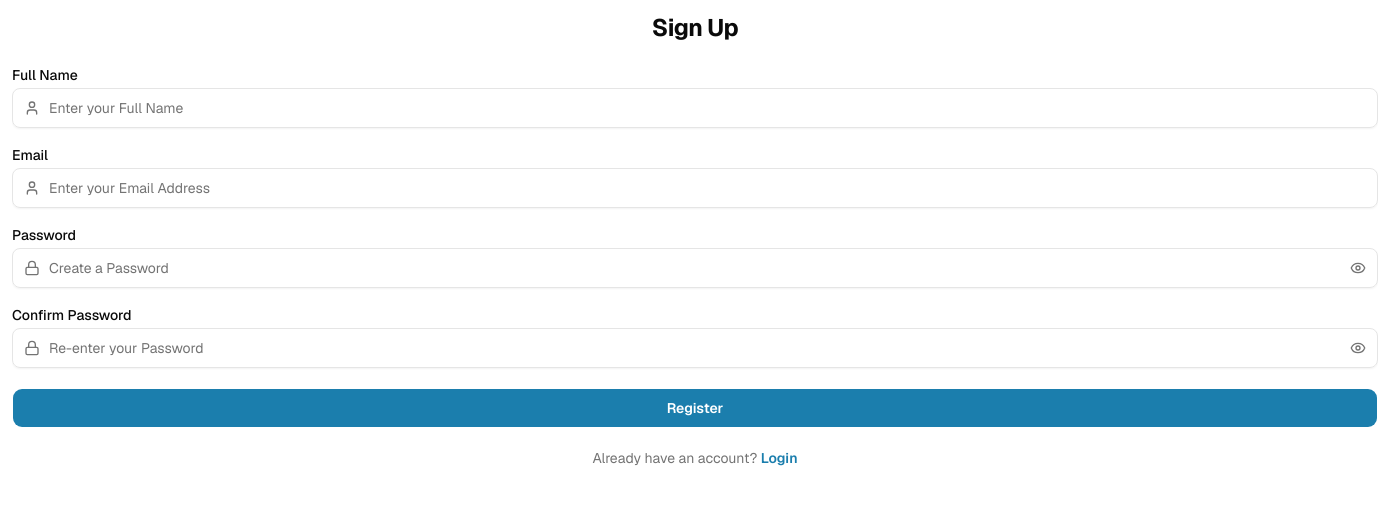
Test: RegisterForm › should show password length error
Type "Test" into the field labelled "Full Name". click: [695, 108]
box: [12,88,1378,128]
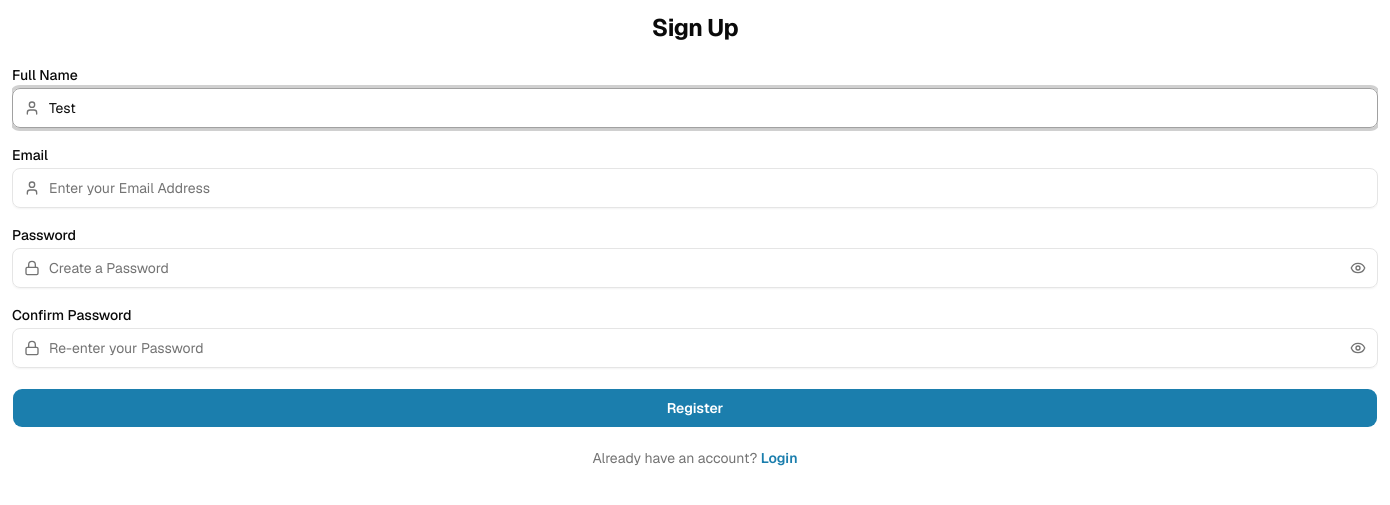
Type "a@b.com" into the field labelled "Email". click: [695, 188]
box: [12,168,1378,208]
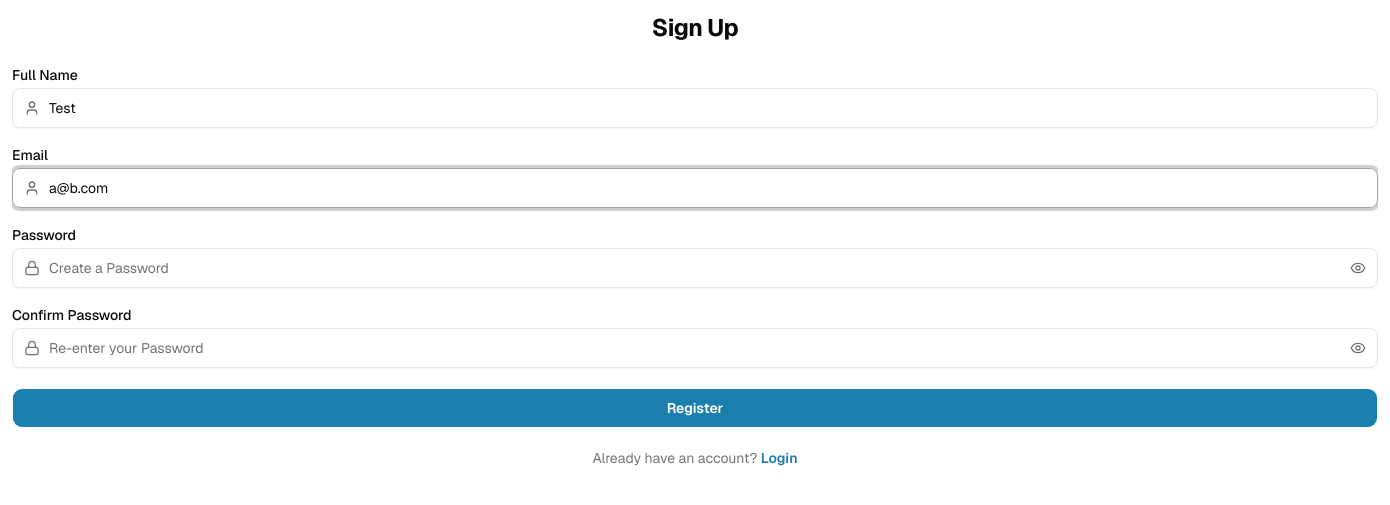
Type "short" into the password field labelled "Password". click: [695, 268]
box: [12,248,1378,288]
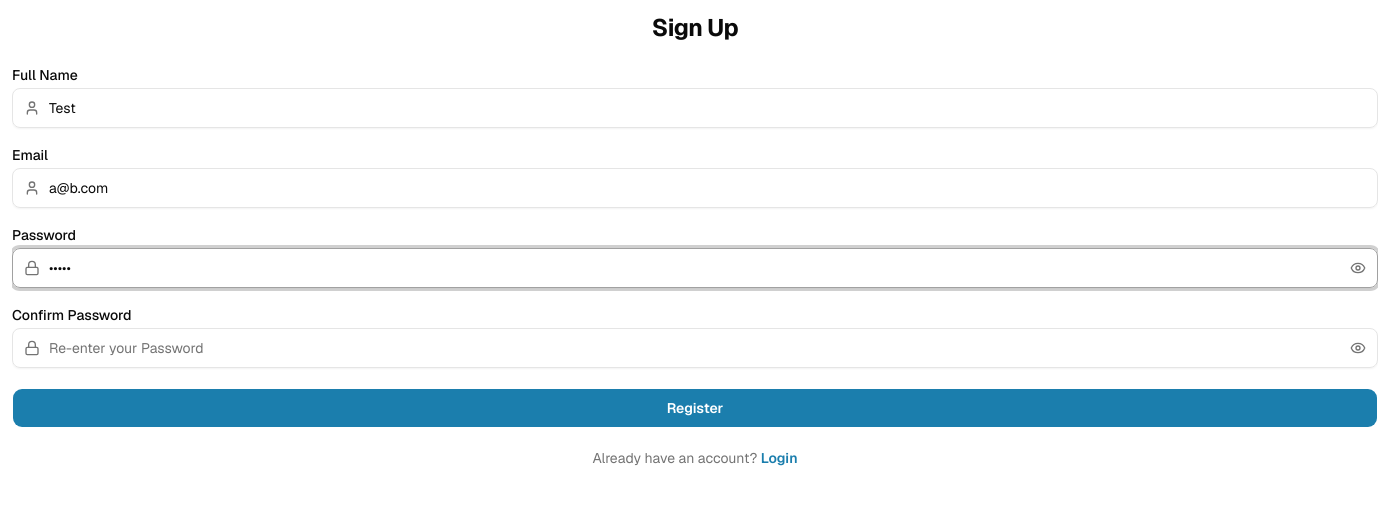
Type "short" into the password field labelled "Confirm Password". click: [695, 348]
box: [12,328,1378,368]
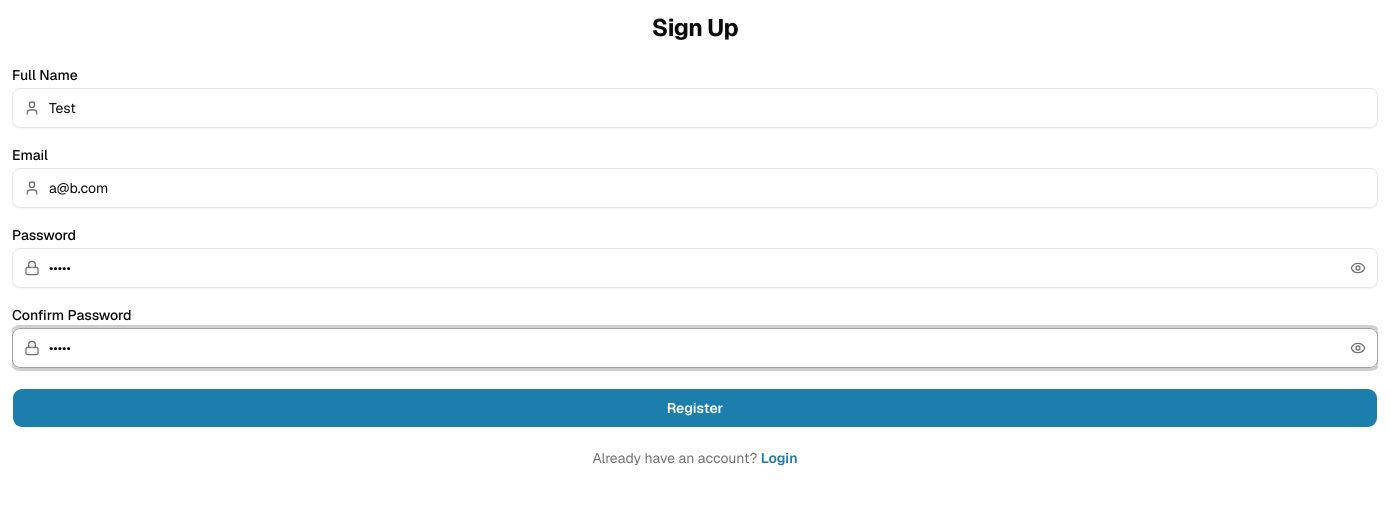
Click the button "Register". click: [695, 408]
box: [12,388,1378,428]
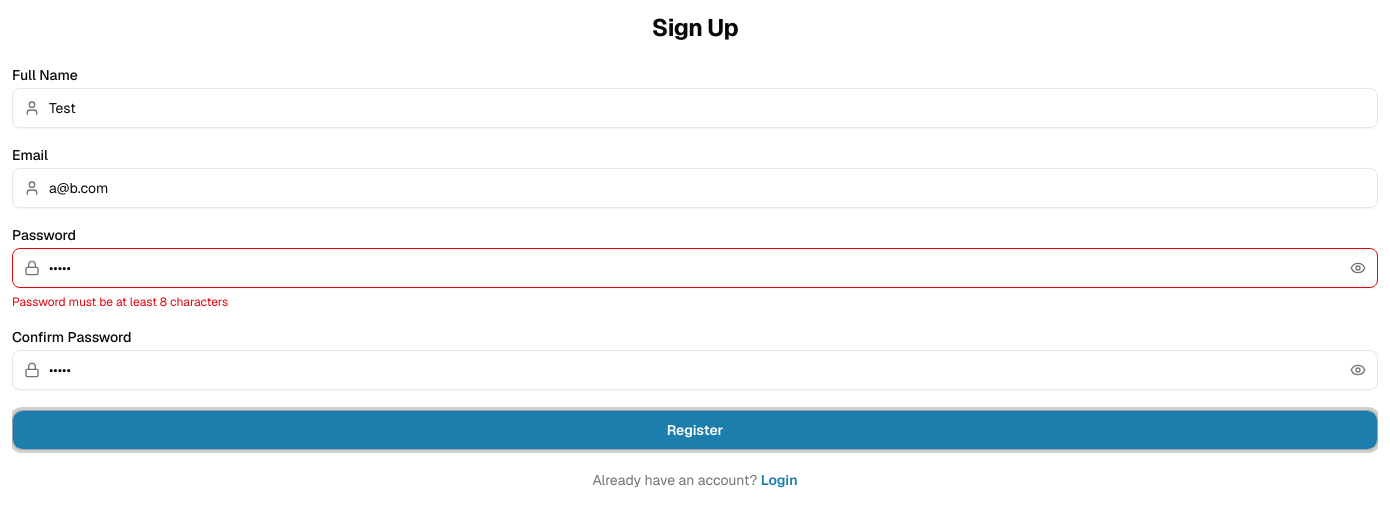
Check: the text "Password must be at least 8 characters" is shown, box [12,294,228,310]
